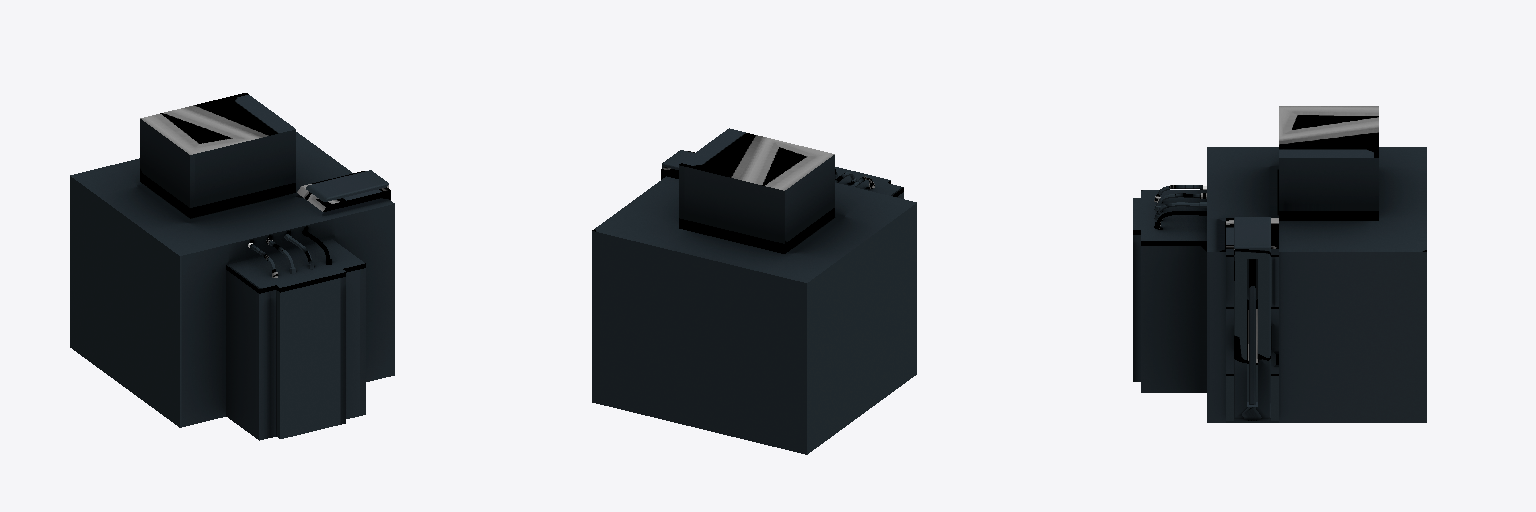
3 views of the same model, side by side, from view 1: azimuth 30°, elevation 25°; view 2: azimuth 150°, elevation 25°; view 3: azimuth 270°, elevation 25° (orthographic).
Parts seen in each view (by area): view 1: Main_Mesh, Front_Mesh.007, Wires_Mesh.009; view 2: Main_Mesh; view 3: Main_Mesh, Front_Mesh.007, Emissive_Mesh.008, Wires_Mesh.009.
Boxes of the visible parts, x1=… form: Main_Mesh: x1=70, y1=93, x2=394, y2=440; Front_Mesh.007: x1=297, y1=170, x2=390, y2=211; Wires_Mesh.009: x1=248, y1=230, x2=331, y2=277; Main_Mesh: x1=592, y1=128, x2=916, y2=454; Main_Mesh: x1=1133, y1=106, x2=1426, y2=422; Front_Mesh.007: x1=1226, y1=217, x2=1278, y2=422; Emissive_Mesh.008: x1=1249, y1=259, x2=1255, y2=404; Wires_Mesh.009: x1=1154, y1=185, x2=1206, y2=228.
Size of the model in its own units: 13.75 by 13.69 by 15.57.
Materials: 4 (1 with a texture image).